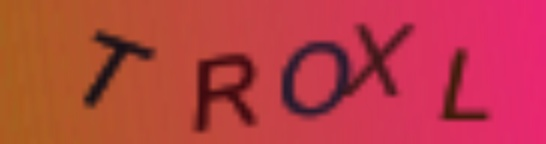L: (436, 45, 495, 126)
O: (277, 36, 351, 121)
R: (192, 53, 262, 135)
T: (79, 29, 154, 111)
X: (345, 20, 418, 101)
